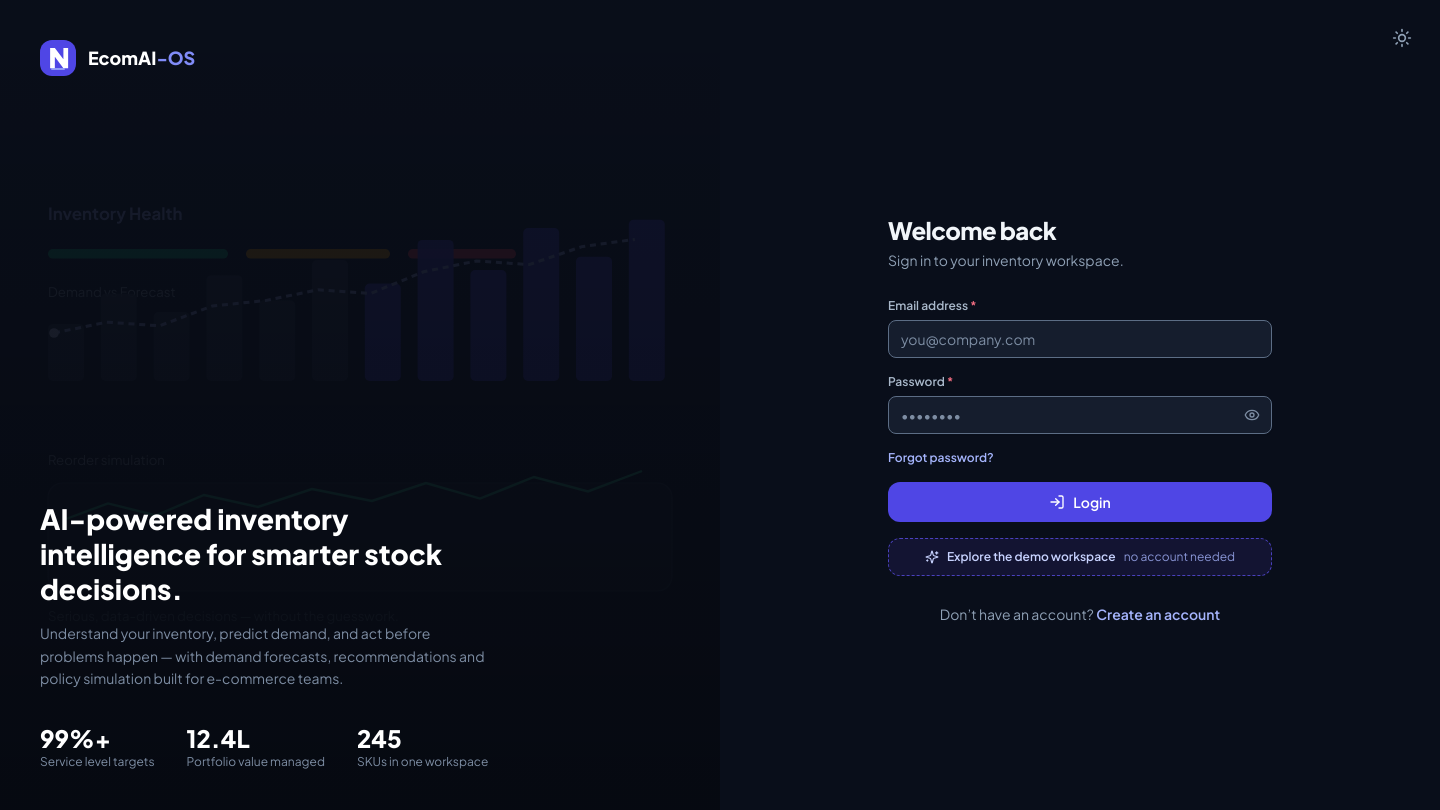
Scenario: the authentication pages under the dark theme › leaves the login form working
Click the button "Login" at [1080, 502], box top-left (888, 482), bottom-right (1272, 522)
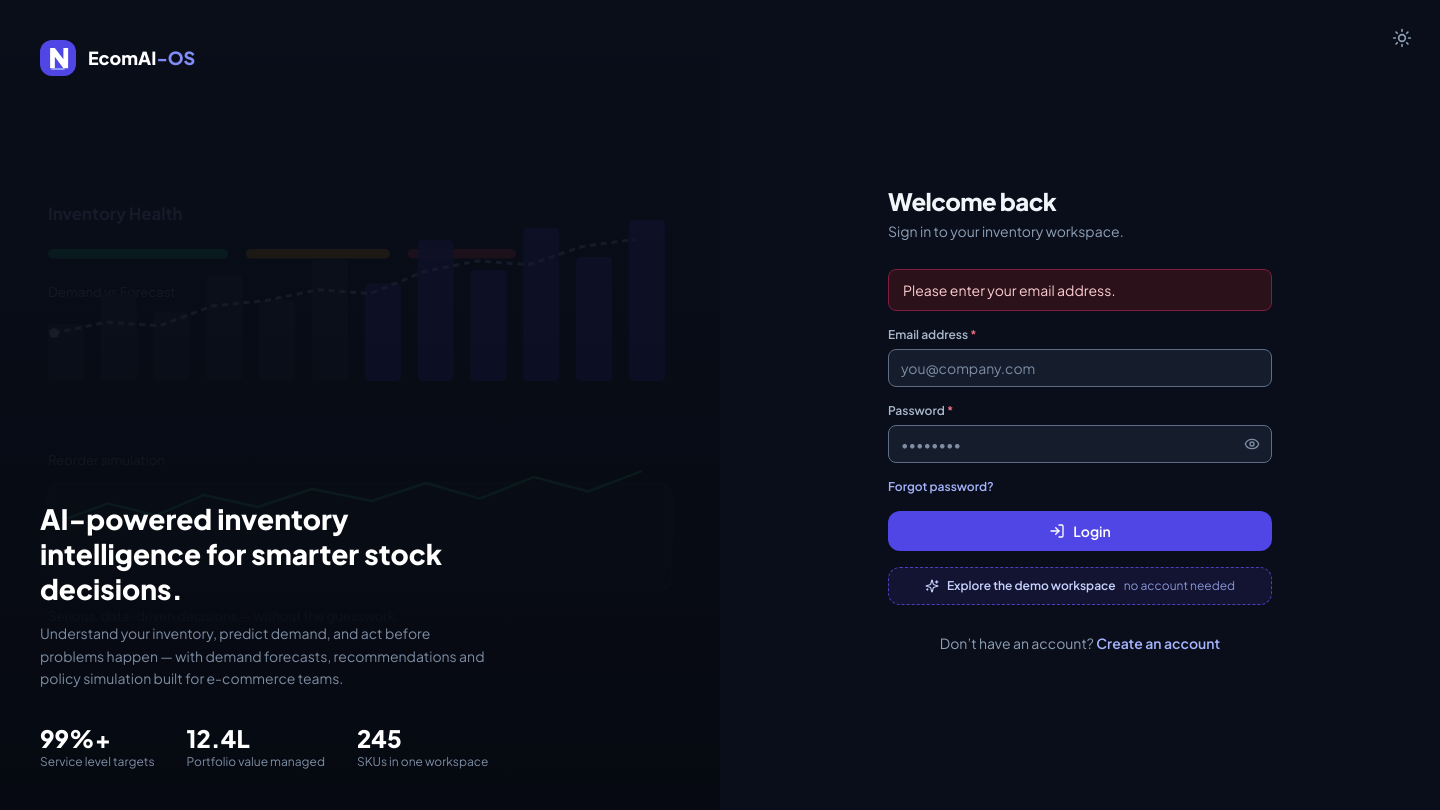
Expected: the text "Please enter your email address." is shown, top-left (888, 269), bottom-right (1272, 311)
Type "nope" into the field with placeholder "you@company.com" at [1080, 368], box top-left (888, 349), bottom-right (1272, 387)
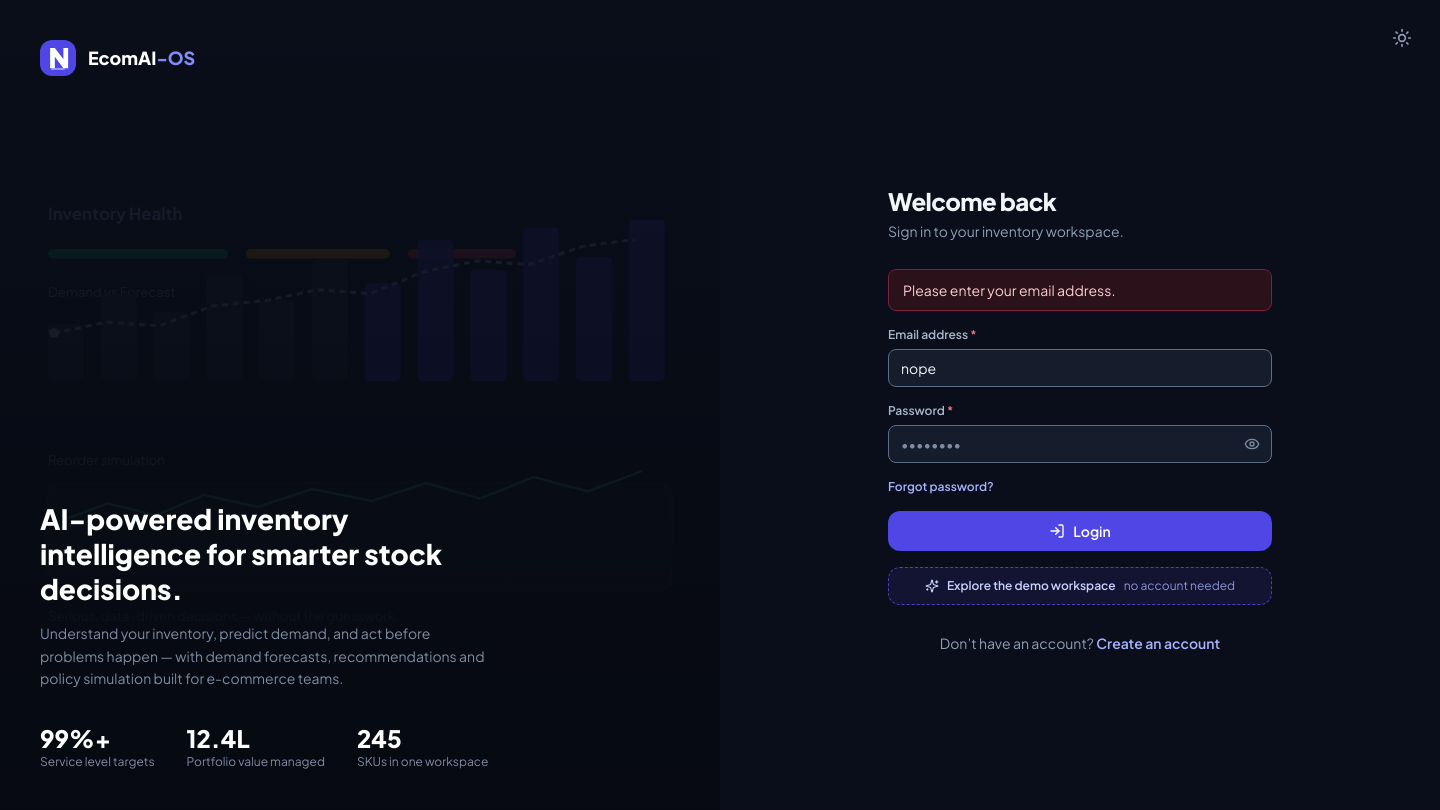
Click the button "Login" at [1080, 531], box top-left (888, 511), bottom-right (1272, 551)
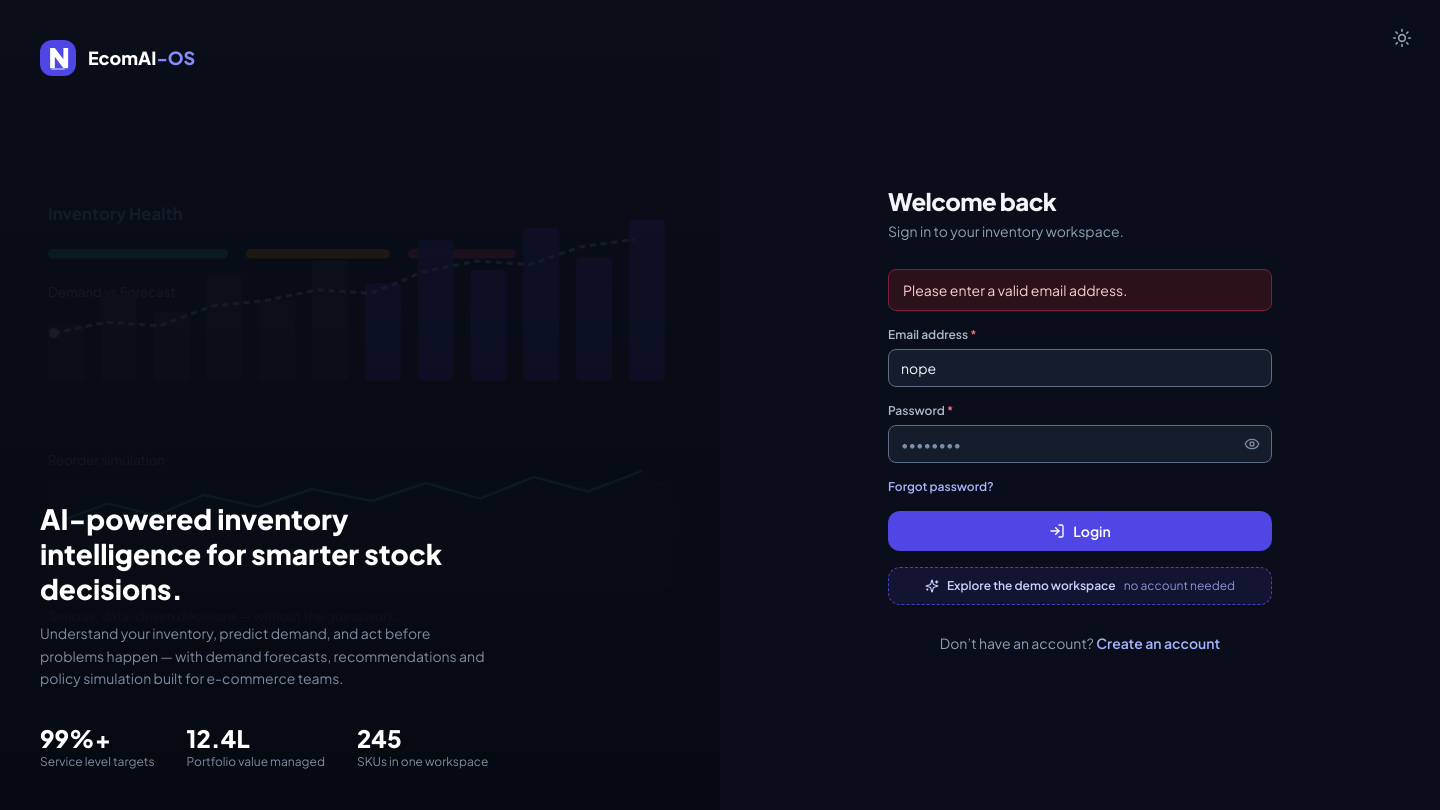
Expected: the text "Please enter a valid email address." is shown, top-left (888, 269), bottom-right (1272, 311)
